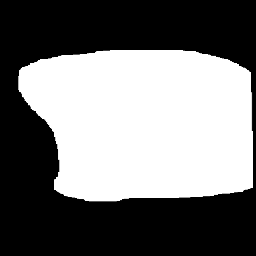mass: (31, 48, 242, 197)
